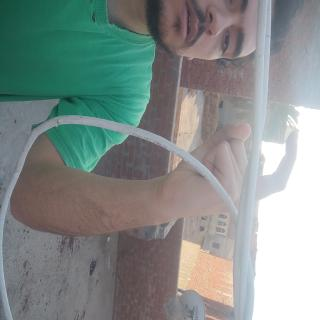RAA: (88, 25, 175, 199)
